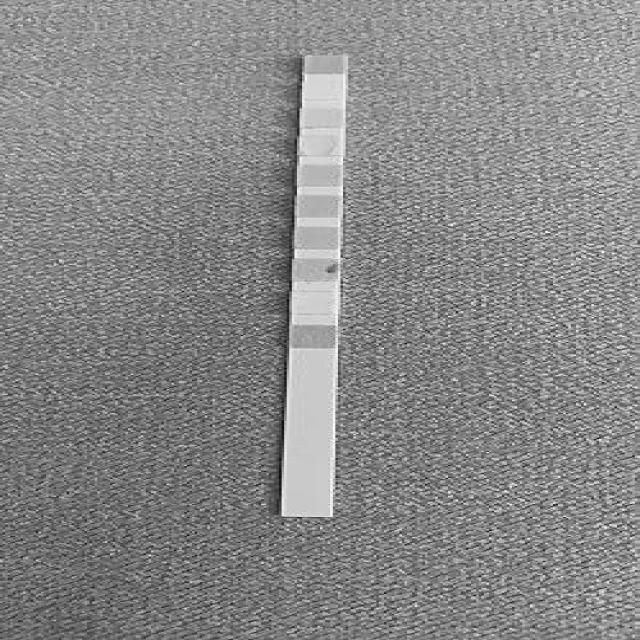Bilirubin: (292, 292, 335, 314)
Blood: (296, 196, 341, 217)
Glucose: (292, 325, 334, 347)
Ketone: (294, 259, 338, 281)
Leukocytes: (306, 56, 346, 74)
Nitrite: (303, 82, 344, 100)
Protein: (300, 136, 343, 155)
SpGravity: (295, 227, 338, 249)
Urobilinogen: (301, 108, 344, 126)
background: (0, 0, 640, 640)
pH: (298, 166, 341, 185)
strip: (283, 55, 348, 517)
